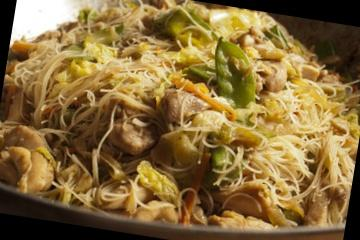pancit bihon: (0, 0, 358, 235)
